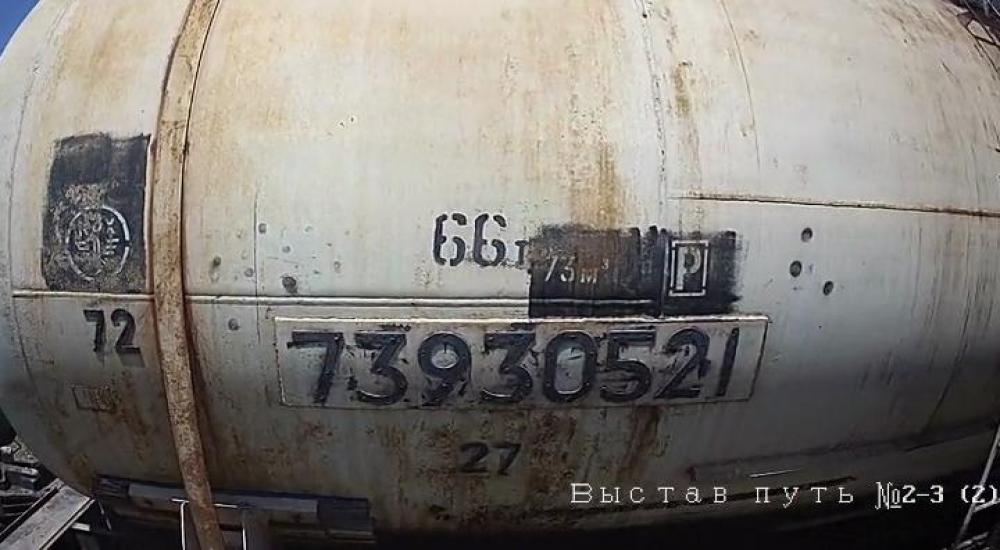Wagon-number: (278, 320, 746, 410)
